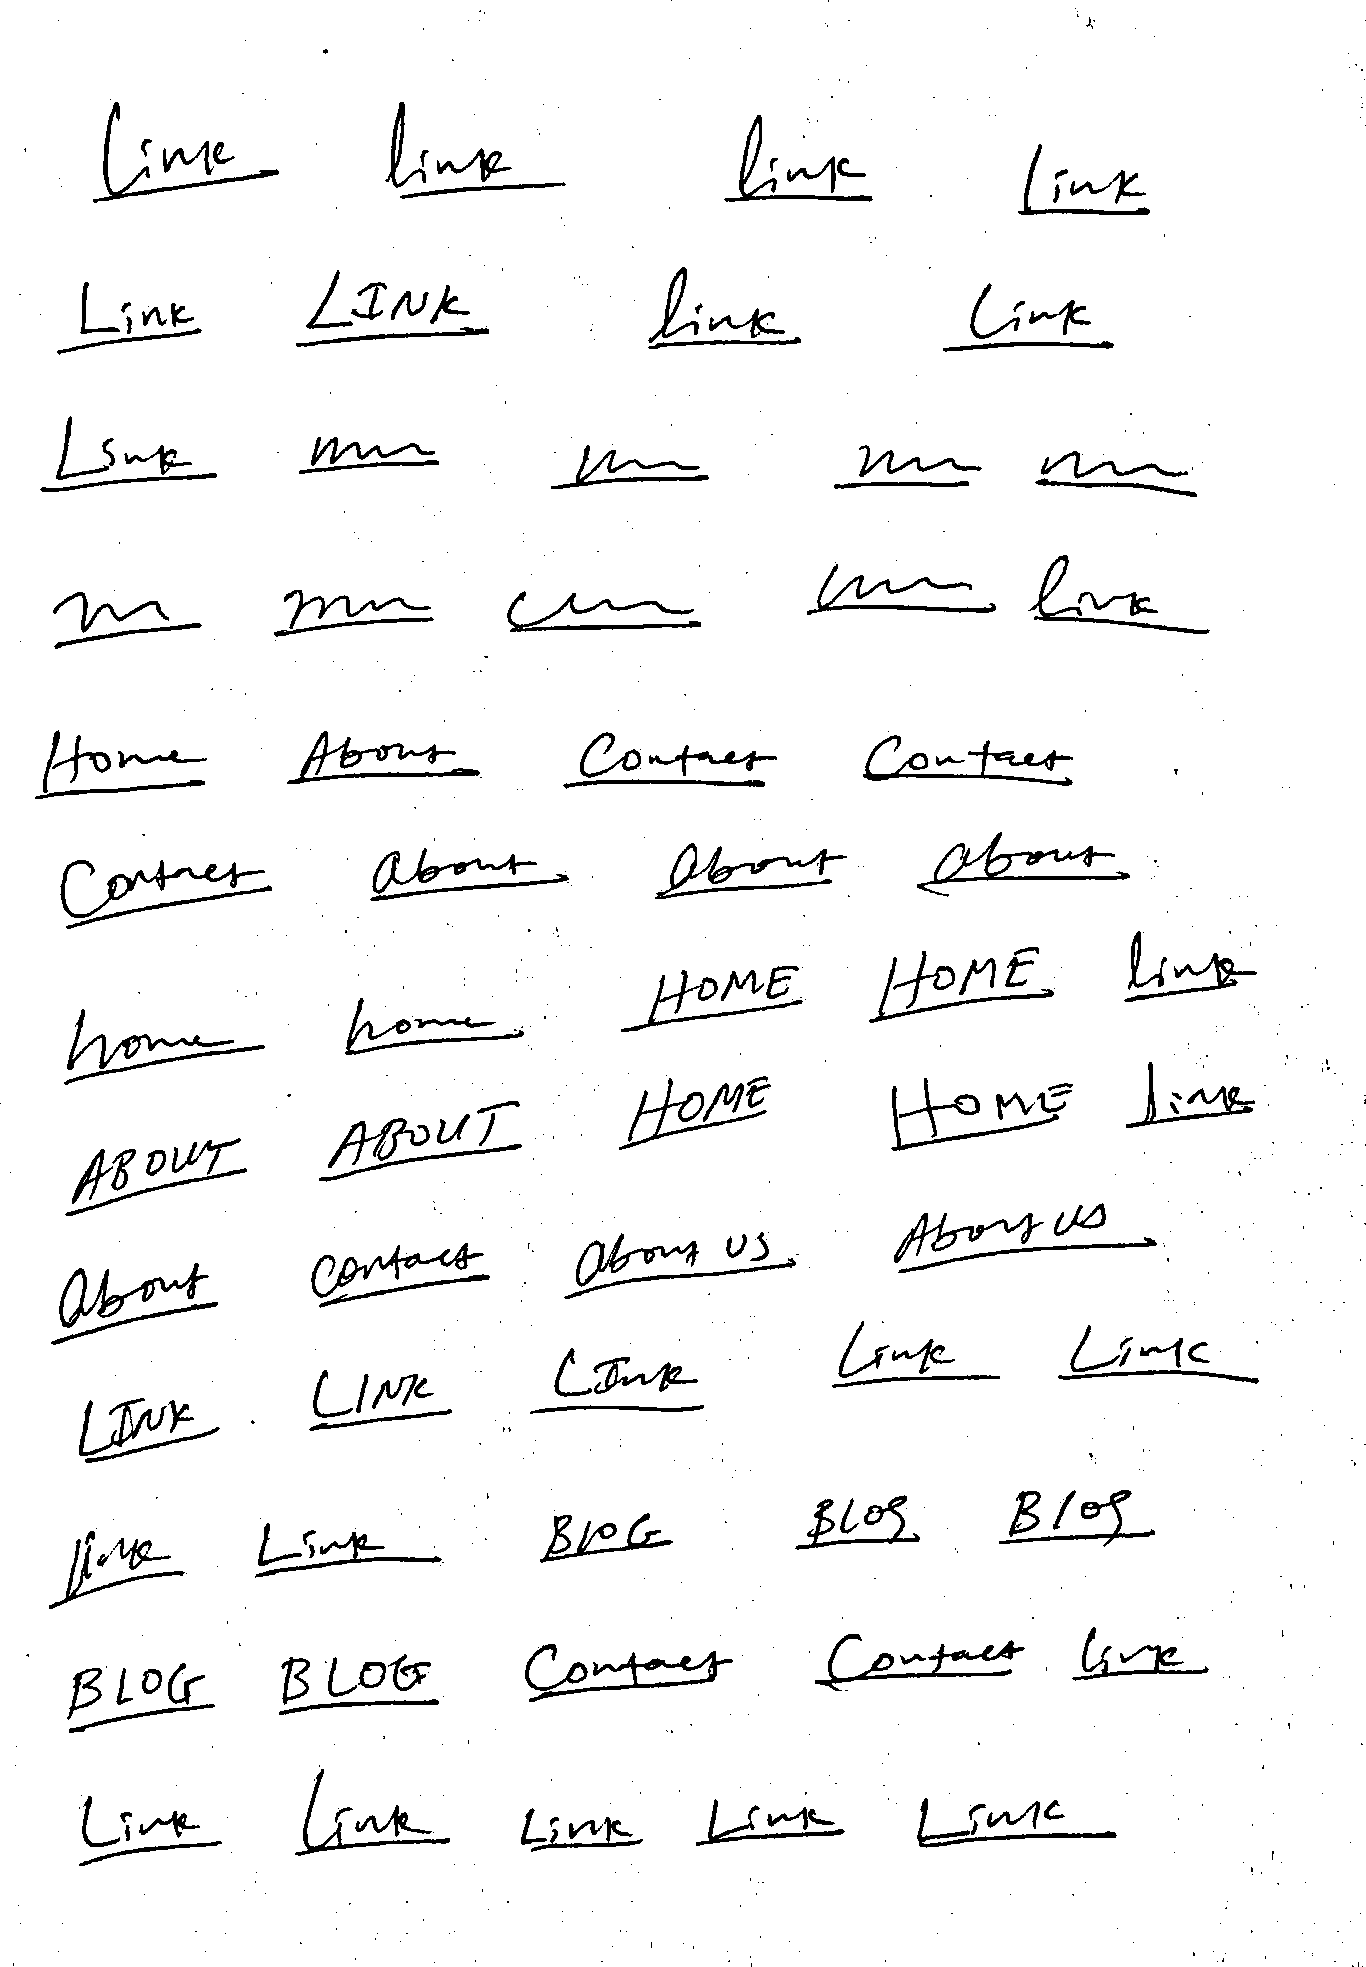Link: (88, 99, 285, 206), (891, 1199, 1151, 1276), (55, 847, 273, 934), (381, 99, 562, 202), (315, 1097, 528, 1182), (60, 1004, 269, 1088), (563, 1226, 791, 1302), (865, 939, 1057, 1027), (291, 269, 492, 348), (48, 1259, 218, 1351), (1025, 555, 1209, 640), (63, 1134, 247, 1218), (39, 416, 220, 498), (888, 1076, 1081, 1152), (622, 960, 810, 1036), (294, 1771, 451, 1862), (67, 1783, 229, 1871), (560, 729, 776, 795), (309, 1236, 502, 1309), (513, 1641, 729, 1705), (650, 834, 846, 904), (368, 840, 566, 909), (643, 269, 806, 353), (907, 1789, 1128, 1850), (723, 114, 874, 203), (617, 1069, 776, 1152), (937, 280, 1113, 354), (33, 731, 208, 804), (57, 1655, 211, 1737), (338, 992, 525, 1060), (913, 836, 1134, 892), (253, 1519, 435, 1587), (810, 1634, 1030, 1690), (73, 1389, 229, 1466), (285, 729, 486, 789), (534, 1347, 699, 1417), (266, 1652, 442, 1717), (43, 1525, 175, 1613), (52, 280, 203, 356), (1057, 1323, 1237, 1386), (829, 1320, 986, 1390), (856, 734, 1078, 783), (803, 562, 997, 617), (305, 1365, 457, 1435), (1116, 931, 1254, 1004), (1016, 143, 1152, 217), (1121, 1061, 1263, 1130), (998, 1487, 1151, 1550), (519, 1795, 646, 1862), (548, 442, 716, 493), (1033, 451, 1200, 501), (792, 1492, 924, 1554), (695, 1798, 852, 1850), (294, 429, 445, 478), (1075, 1628, 1208, 1682), (831, 444, 983, 490)
